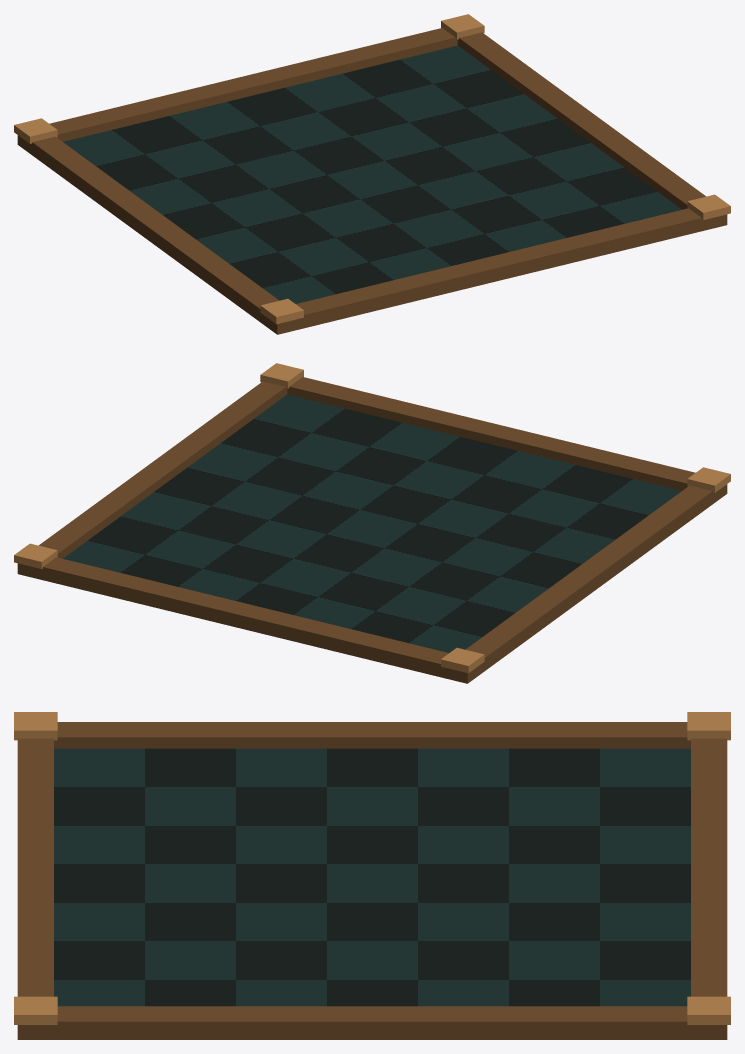
Rendered from tray.glb.
3 views of the same model, one above another, from view 1: azimuth 30°, elevation 25°; view 2: azimuth 150°, elevation 25°; view 3: azimuth 270°, elevation 25° (orthographic). The views are drawn at different scales.
Visible parts, largest first — view 1: Velvet, Frame; view 2: Velvet, Frame; view 3: Velvet, Frame.
Boxes of the visible parts, left/top/right/bottom form: Velvet: left=63, top=45, right=681, bottom=303; Frame: left=14, top=14, right=730, bottom=334; Velvet: left=63, top=394, right=681, bottom=652; Frame: left=14, top=363, right=730, bottom=683; Velvet: left=54, top=748, right=690, bottom=1006; Frame: left=14, top=712, right=730, bottom=1039.
Bounding box in the file's own units: 3.94 × 0.16 × 3.94.
3 materials, 1 textured.
